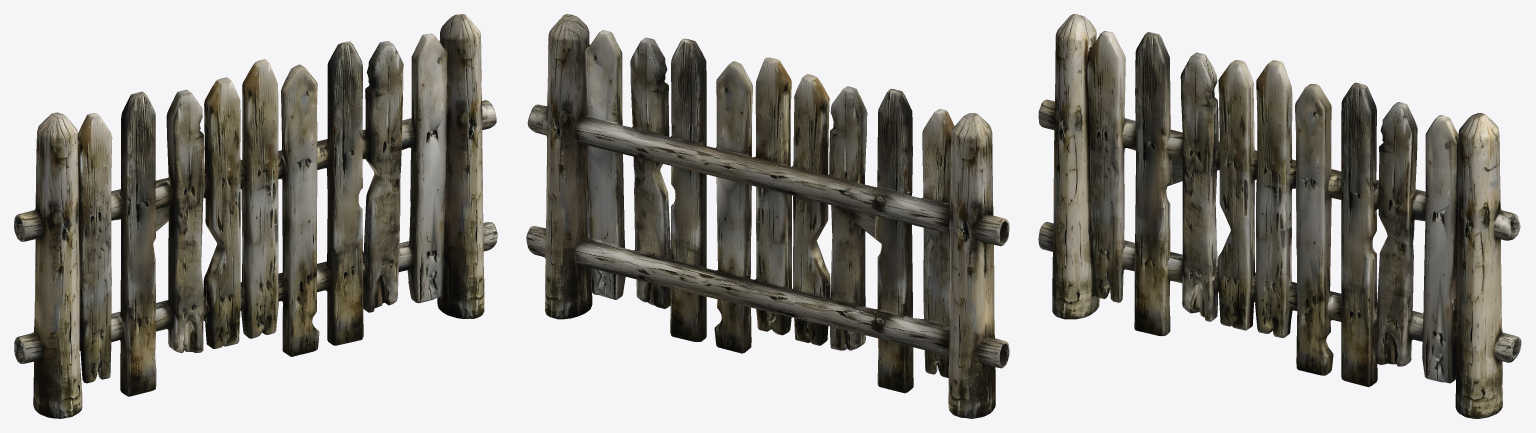
The model's file is Zaun_HolzLattenRustik_1001153254.glb.
3 views of the same model, side by side, from view 1: azimuth 30°, elevation 25°; view 2: azimuth 150°, elevation 25°; view 3: azimuth 330°, elevation 25° (orthographic).
Parts seen in each view (by area): view 1: Mesh_0; view 2: Mesh_0; view 3: Mesh_0.
Part boxes in pixels (x1=…): Mesh_0: x1=14, y1=14, x2=497, y2=418; Mesh_0: x1=526, y1=14, x2=1009, y2=418; Mesh_0: x1=1038, y1=14, x2=1521, y2=418.
Size of the model in its own units: 1.91 by 1.16 by 0.1875.
1 material, 1 textured.
